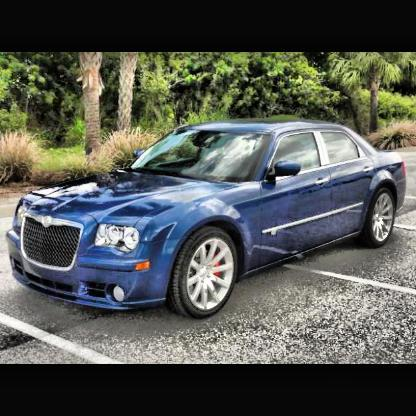Chrysler 300 SRT-8 2010: (6, 121, 409, 323)
